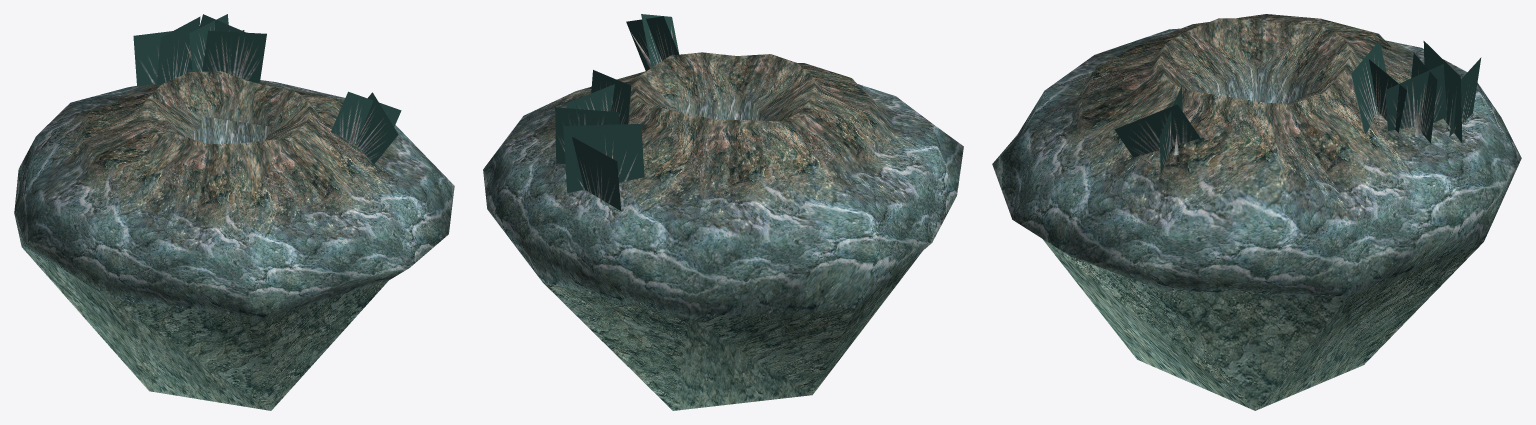
Rendered from rock_crystl_mound_med_l1.fbx.
3 views of the same model, side by side, from view 1: azimuth 30°, elevation 25°; view 2: azimuth 150°, elevation 25°; view 3: azimuth 270°, elevation 25° (orthographic). The views are drawn at different scales.
Visible parts, largest first — view 1: mesh_node; view 2: mesh_node; view 3: mesh_node.
Part boxes in pixels (box(x1,y1,x2,y2)): mesh_node: box(14, 14, 454, 410); mesh_node: box(483, 14, 963, 410); mesh_node: box(992, 14, 1521, 410).
Bounding box in the file's own units: 16.67 × 12.15 × 17.03.
